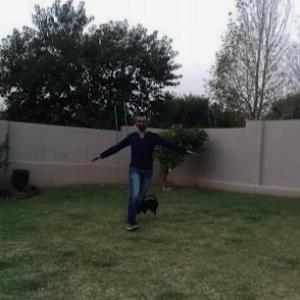land: (99, 116, 197, 231)
